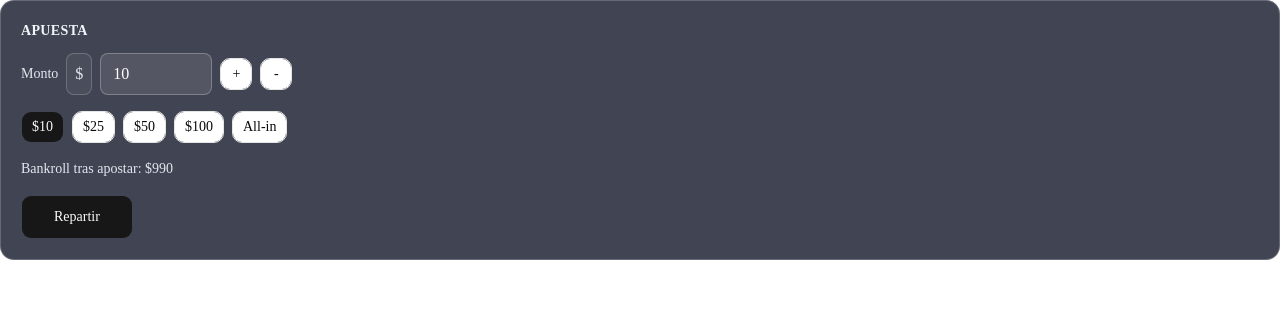
BetSelector › shows errors and disables deal for invalid input values
Replace the text in the field with "-5": (156, 74) [100,53,212,95]
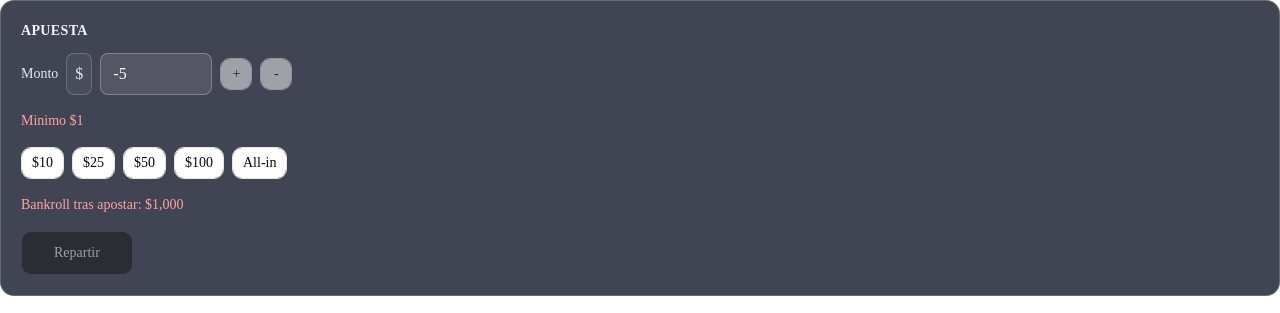
Now the text "Minimo $1" is shown, box [21,113,84,128]
Now the button "Repartir" is disabled, box [21,231,133,275]
Replace the text in the field with "12.5": (156, 74) [100,53,212,95]
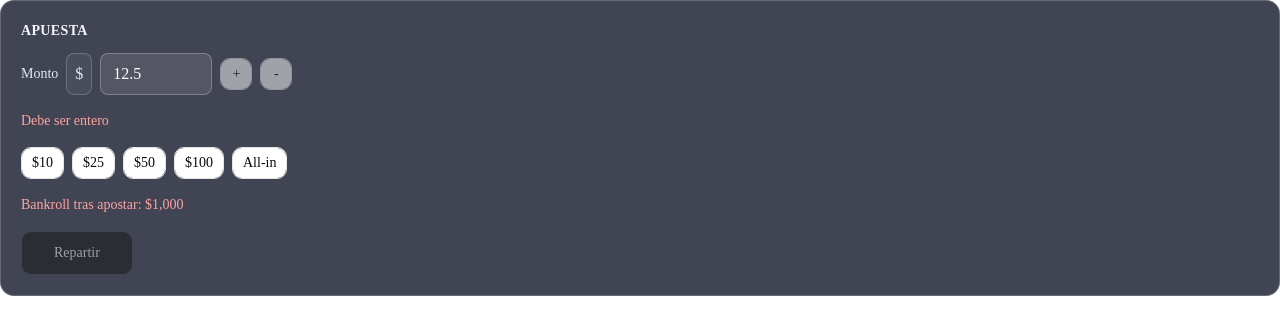
Now the button "Repartir" is disabled, box [21,231,133,275]
Now the text "Debe ser entero" is shown, box [21,113,109,128]
Clear the field: (156, 74) [100,53,212,95]
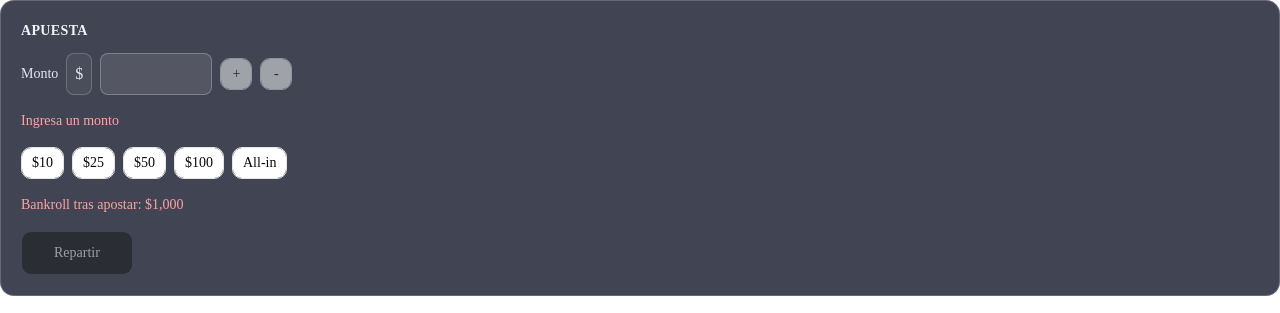
Now the button "Repartir" is disabled, box [21,231,133,275]
Now the text "Ingresa un monto" is shown, box [21,113,119,128]
In the field: (156, 74) [100,53,212,95], type "9999"
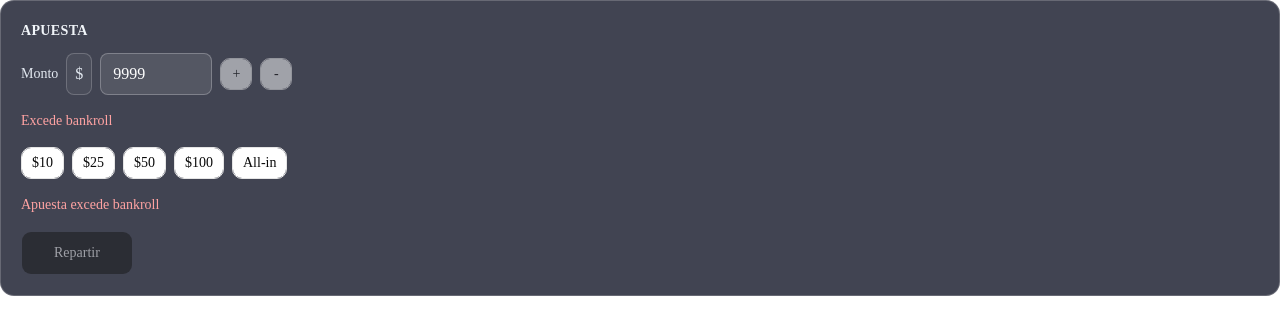
Now the button "Repartir" is disabled, box [21,231,133,275]
Now the text "Excede bankroll" is shown, box [21,113,112,128]
